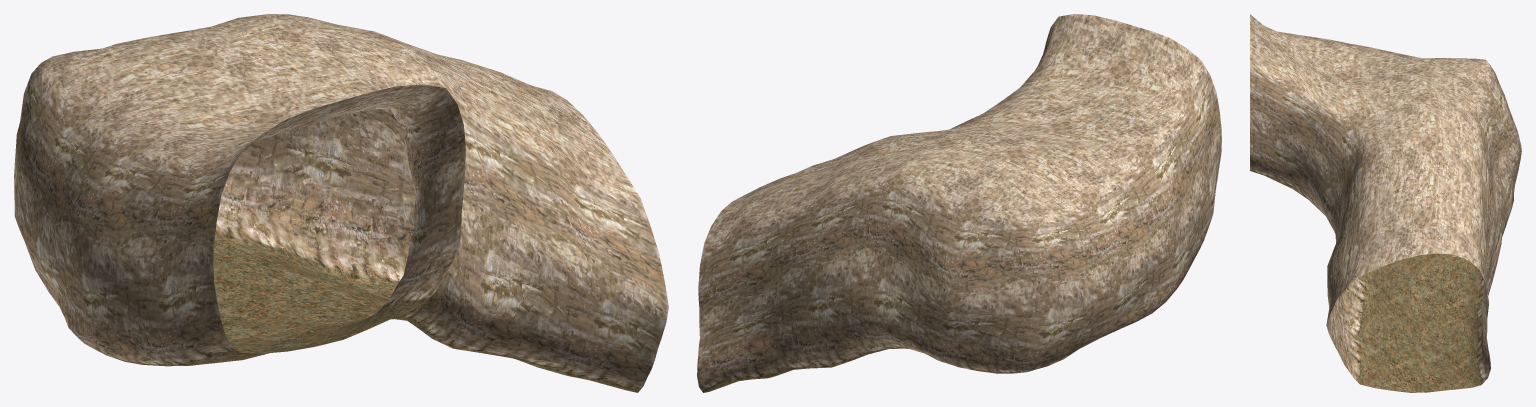
Rendered from thm_all_cave_s01_mirror_r10_mesh_r10.fbx.
3 views of the same model, side by side, from view 1: azimuth 30°, elevation 25°; view 2: azimuth 150°, elevation 25°; view 3: azimuth 270°, elevation 25° (orthographic). The views are drawn at different scales.
Visible parts, largest first — view 1: mesh_node; view 2: mesh_node; view 3: mesh_node.
Boxes of the visible parts, left/top/right/bottom form: mesh_node: left=14, top=14, right=668, bottom=392; mesh_node: left=697, top=14, right=1221, bottom=392; mesh_node: left=1250, top=14, right=1521, bottom=392.
Bounding box in the file's own units: 50.15 × 41.09 × 38.79.
